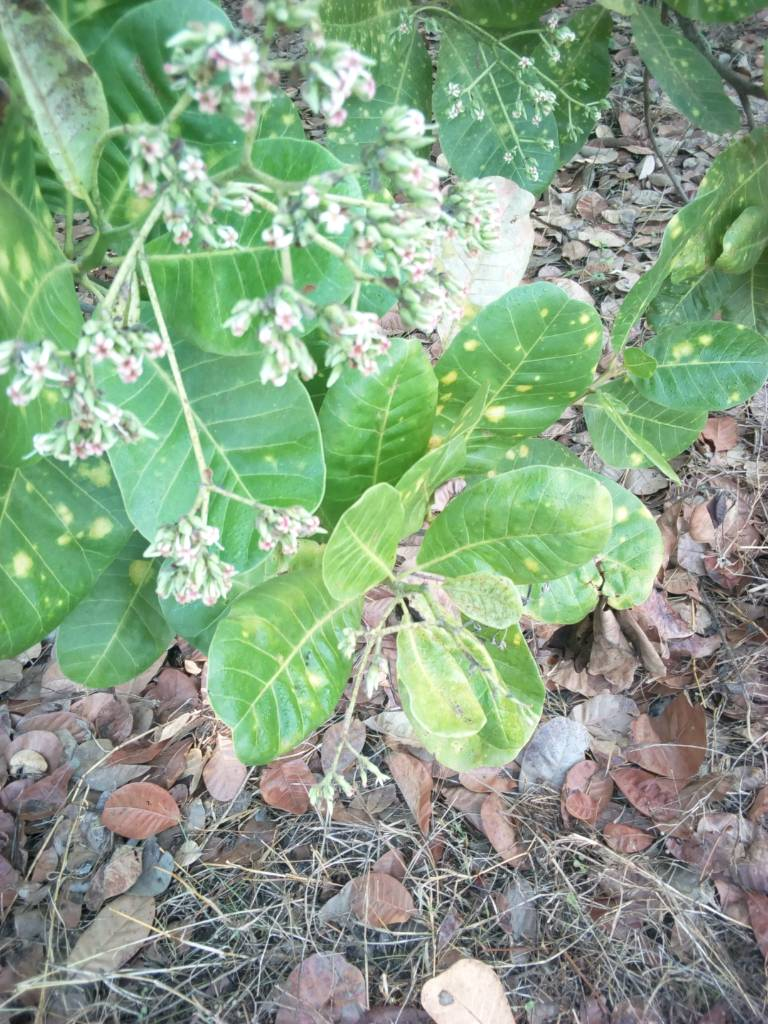Alternariose: (1, 336, 169, 658), (199, 578, 366, 758), (438, 277, 613, 435), (394, 463, 619, 577)
